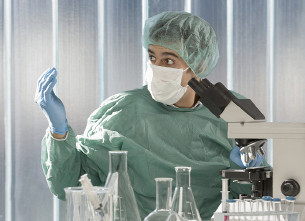face_mask: (145, 47, 185, 105)
